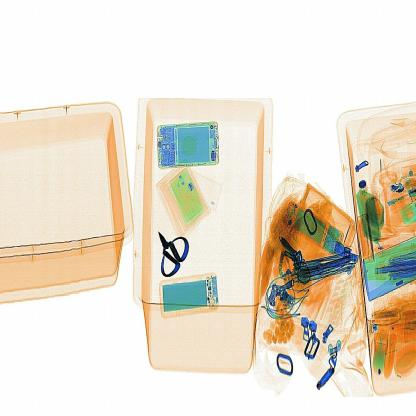gun: (146, 220, 200, 281)
